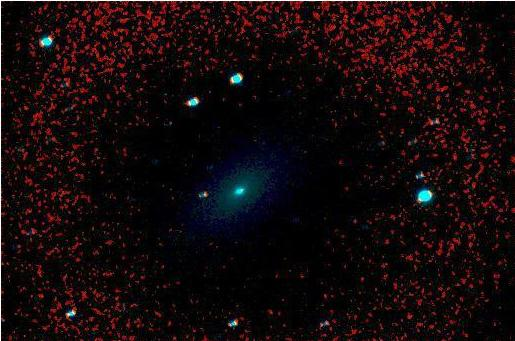star: (193, 181, 223, 211)
